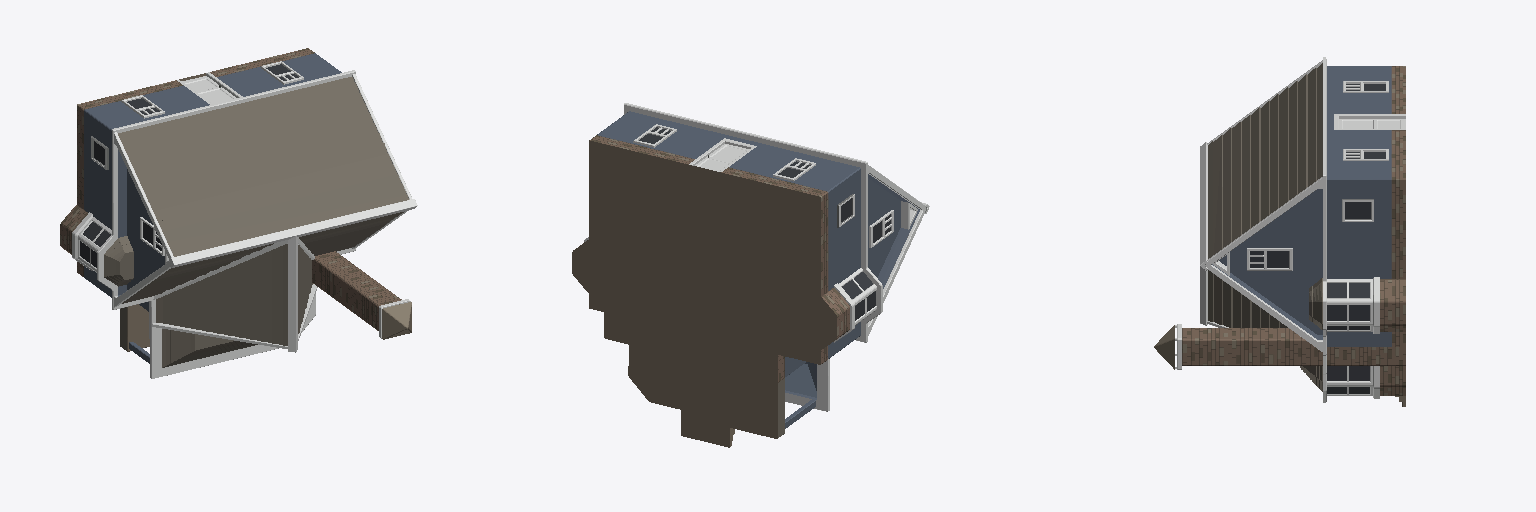
The picture shows the model from 3 angles: view 1: azimuth 30°, elevation 25°; view 2: azimuth 150°, elevation 25°; view 3: azimuth 270°, elevation 25°; orthographic projection.
Parts seen in each view (by area): view 1: Object.1; view 2: Object.1; view 3: Object.1.
Part boxes in pixels (x1,y1,x2,y2): Object.1: (60, 48, 417, 378); Object.1: (572, 103, 929, 447); Object.1: (1154, 57, 1405, 406).
Bounding box in the file's own units: 0.512 × 0.5011 × 0.4107.
1 materials, 1 textured.